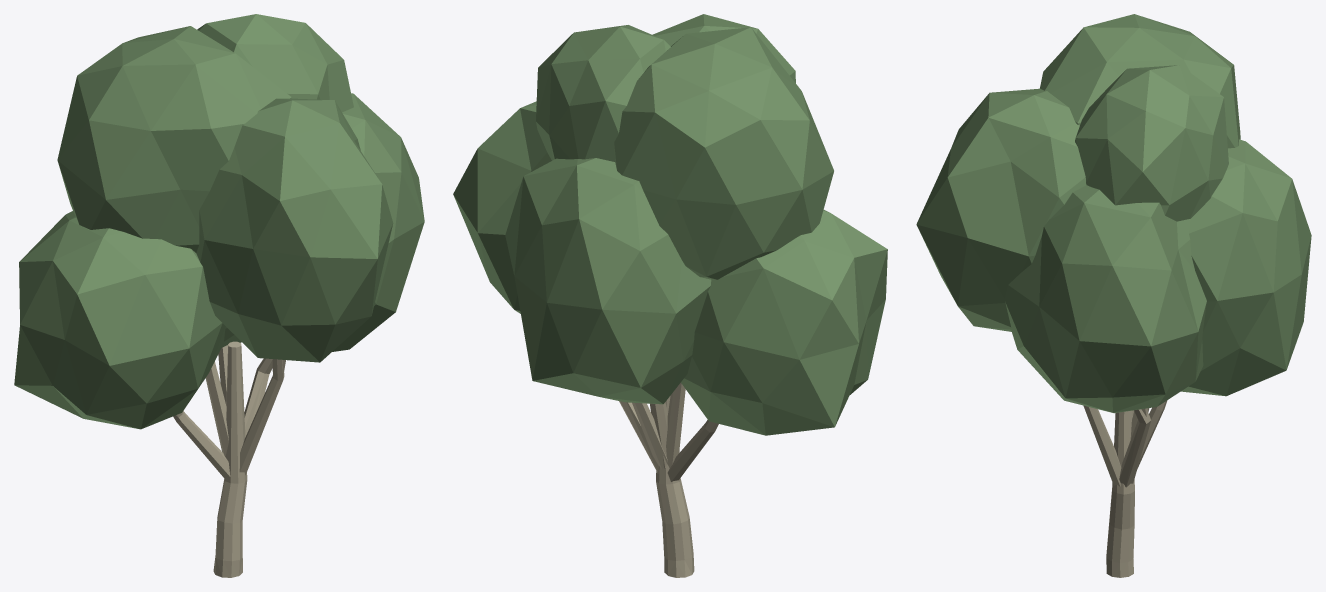
Rendered from plane_tree.fbx.
3 views of the same model, side by side, from view 1: azimuth 30°, elevation 25°; view 2: azimuth 150°, elevation 25°; view 3: azimuth 270°, elevation 25° (orthographic). The views are drawn at different scales.
Parts seen in each view (by area): view 1: plane_tree; view 2: plane_tree; view 3: plane_tree.
Part boxes in pixels (x1,y1,x2,y2): plane_tree: (14,14,424,577); plane_tree: (453,14,887,577); plane_tree: (916,14,1311,577).
Bounding box in the file's own units: 14 × 18 × 12.33.
